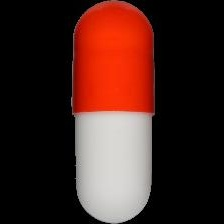50090-0029: (0, 0, 224, 224)
